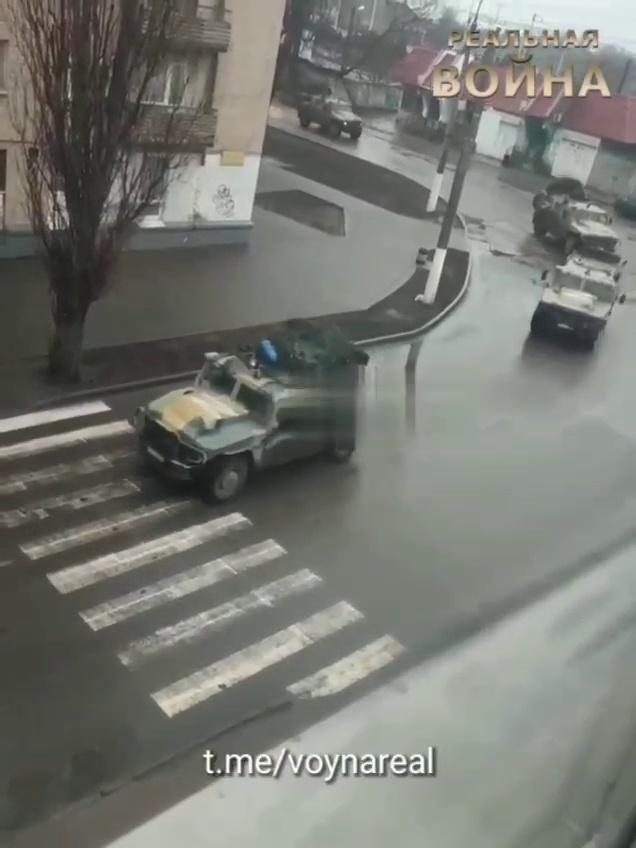armored_car: (130, 325, 369, 507), (530, 246, 628, 350), (532, 178, 620, 255), (297, 91, 363, 138)
